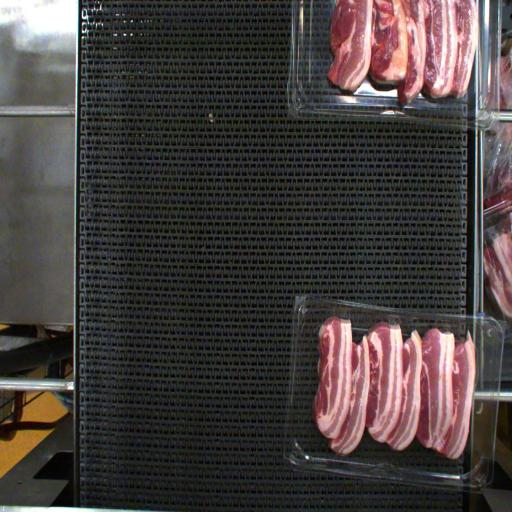packaging-error: (387, 312, 403, 329)
